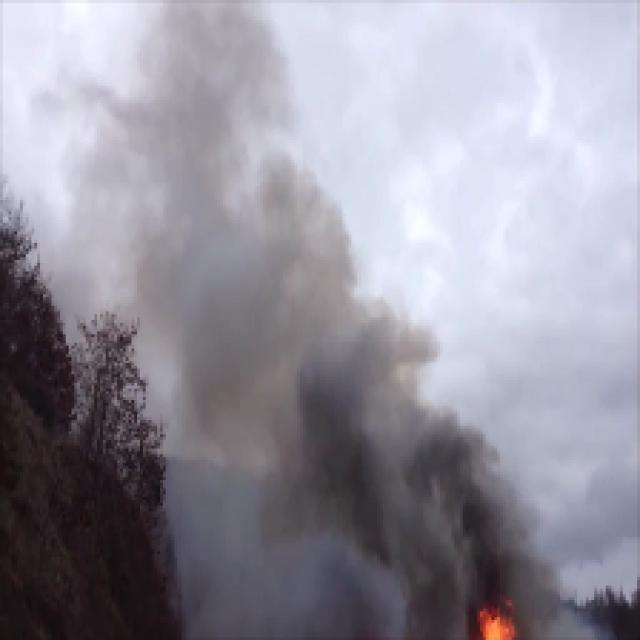smoke: (134, 60, 307, 440), (321, 363, 470, 565)
